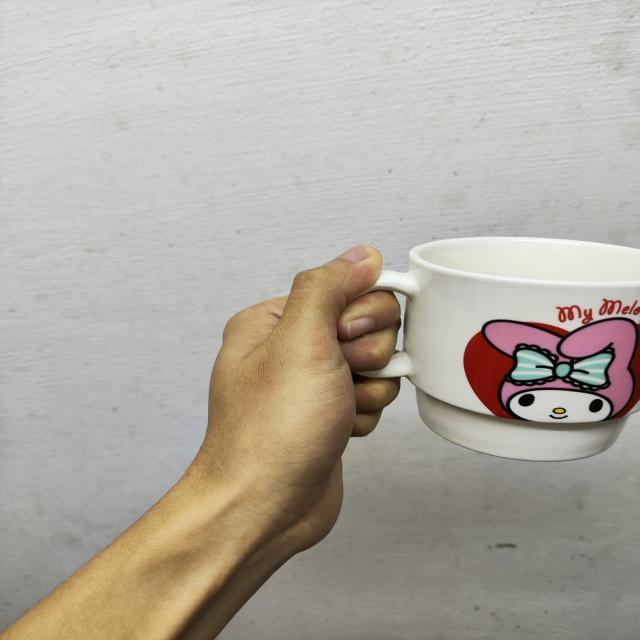cup: (320, 223, 640, 475)
